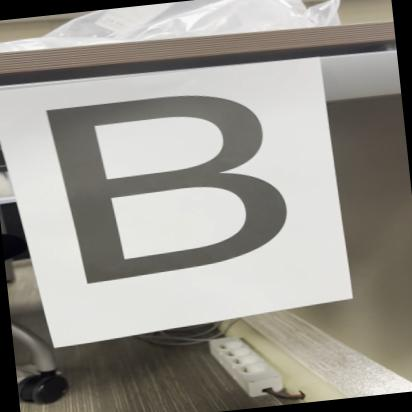seat: (31, 77, 310, 295)
